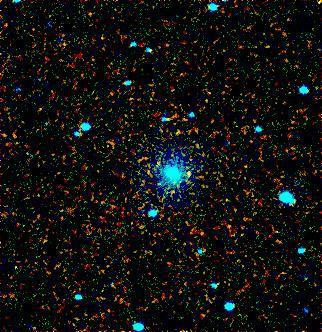star: (174, 159, 204, 189)
